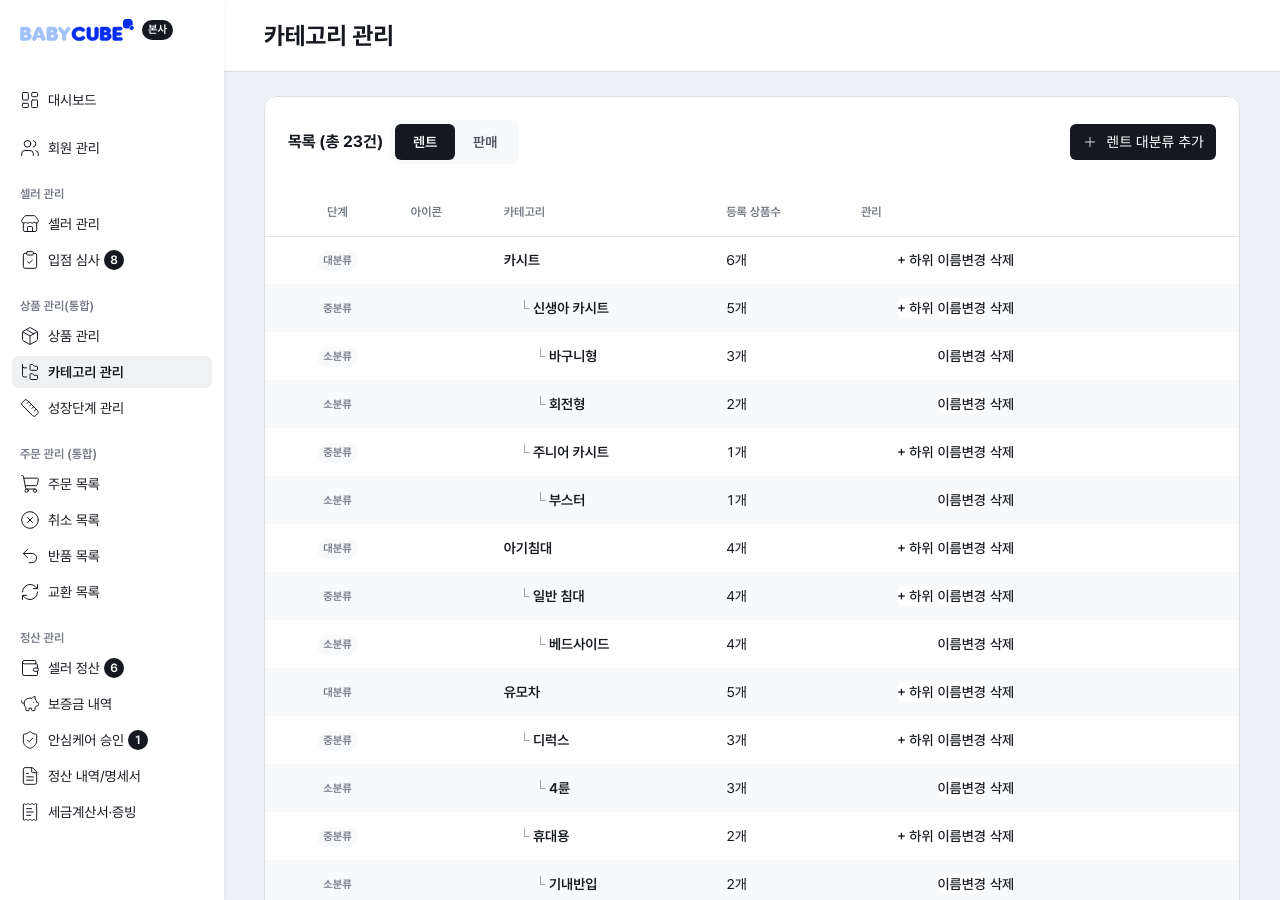
Scenario: CategoryListPage › 카테고리명 변경 › 기존 이름이 채워진 채로 열린다
Click the button "이름변경" in the row of "회전형": coordinates (962, 404) left=938, top=394, right=986, bottom=414
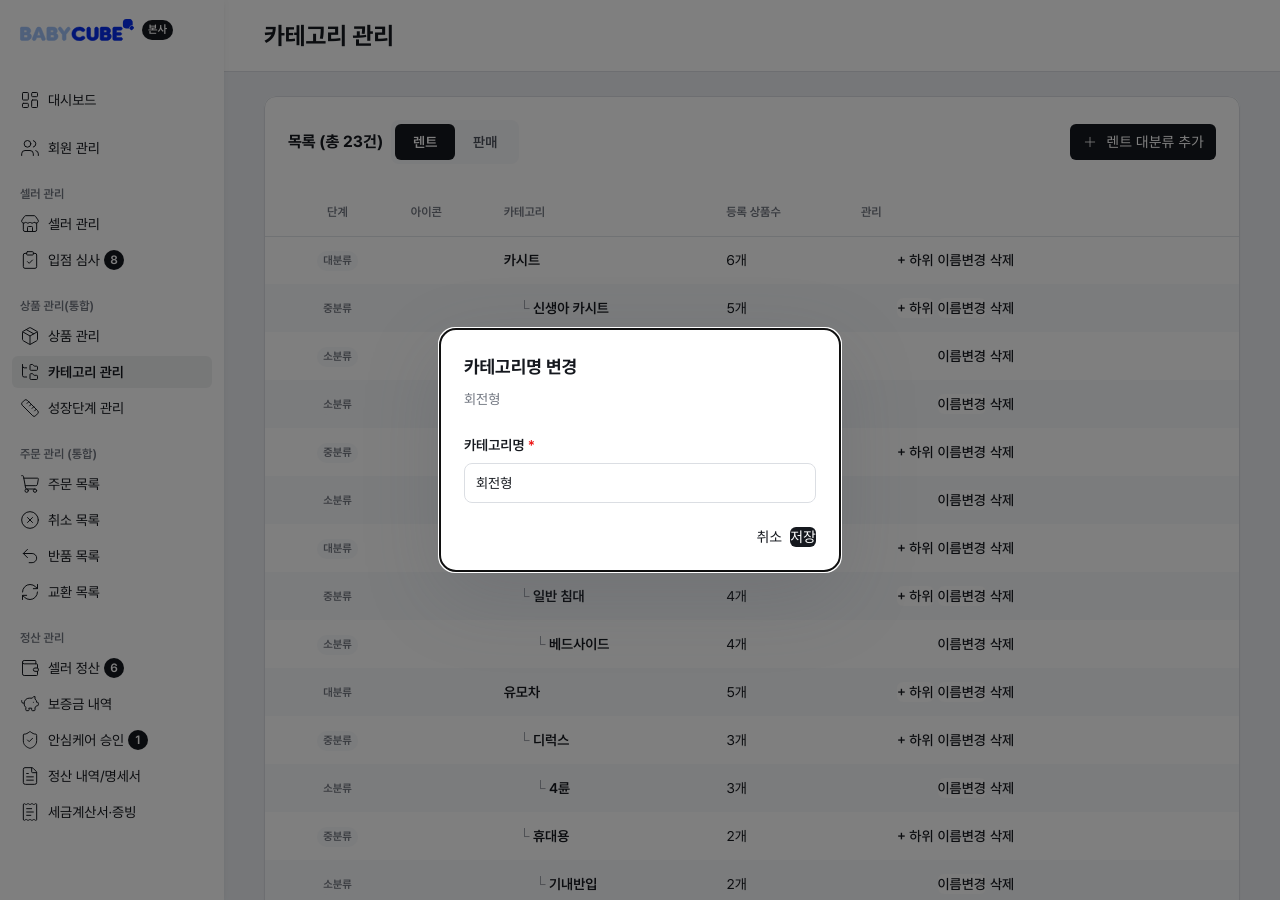
Expected: the heading "카테고리명 변경" is shown, left=464, top=356, right=577, bottom=377
Expected: the field labelled "카테고리명 *" holds "회전형", left=476, top=471, right=804, bottom=495
